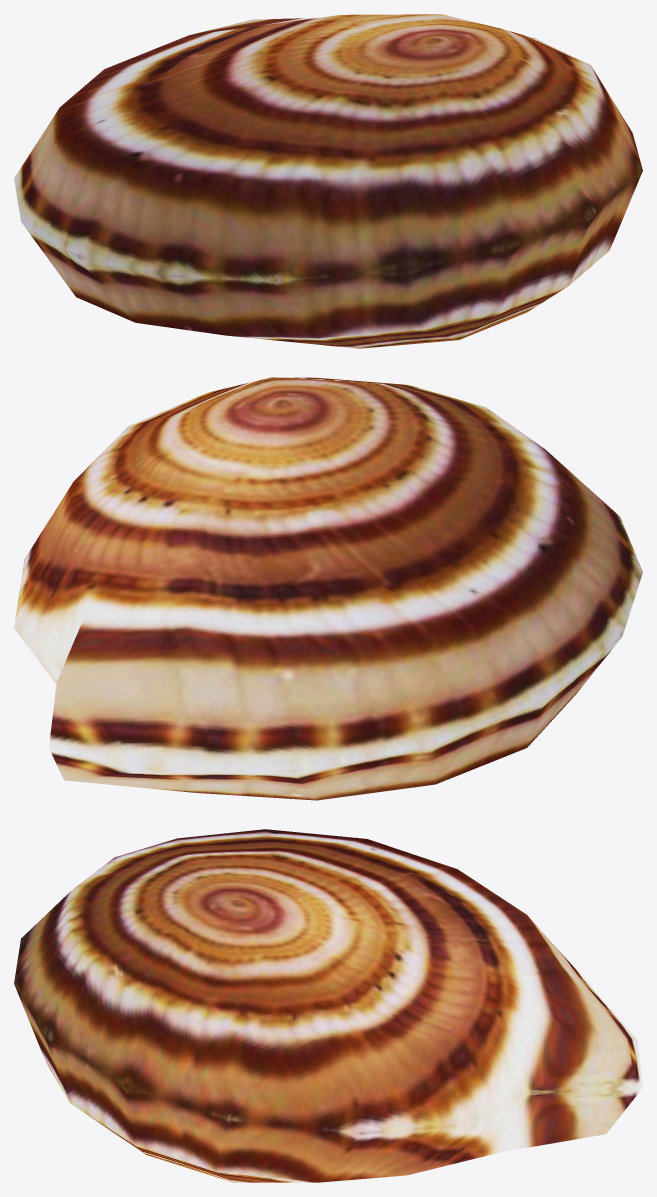
Rendered from SeaShell-11_LOD0_Small.glb.
The picture shows the model from 3 angles, top to bottom: view 1: azimuth 30°, elevation 25°; view 2: azimuth 150°, elevation 25°; view 3: azimuth 270°, elevation 25°; orthographic projection. The views are drawn at different scales.
Parts seen in each view (by area): view 1: SeaShell-11_high; view 2: SeaShell-11_high; view 3: SeaShell-11_high.
Boxes of the visible parts, left/top/right/bottom form: SeaShell-11_high: left=14, top=14, right=642, bottom=348; SeaShell-11_high: left=14, top=377, right=642, bottom=800; SeaShell-11_high: left=14, top=829, right=642, bottom=1182.
Size of the model in its own units: 0.0215 by 0.0105 by 0.0231.
1 material, 1 textured.
